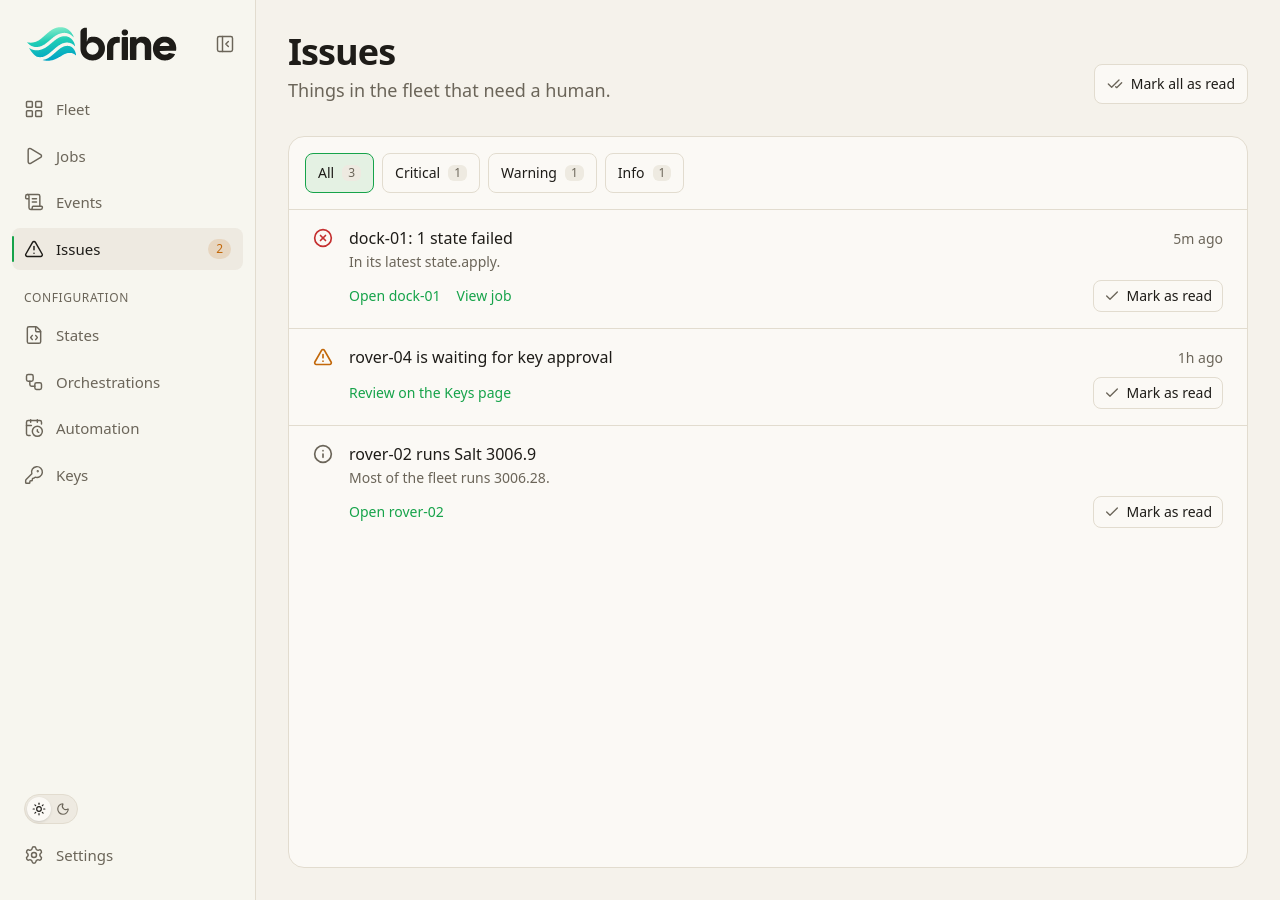
Test: IssuesPage › says so when an issue changed before it was marked, and leaves it unread
Click the button "Mark as read" in the row of "Review on the Keys page": coordinates (1158, 393) [1094,377,1223,409]
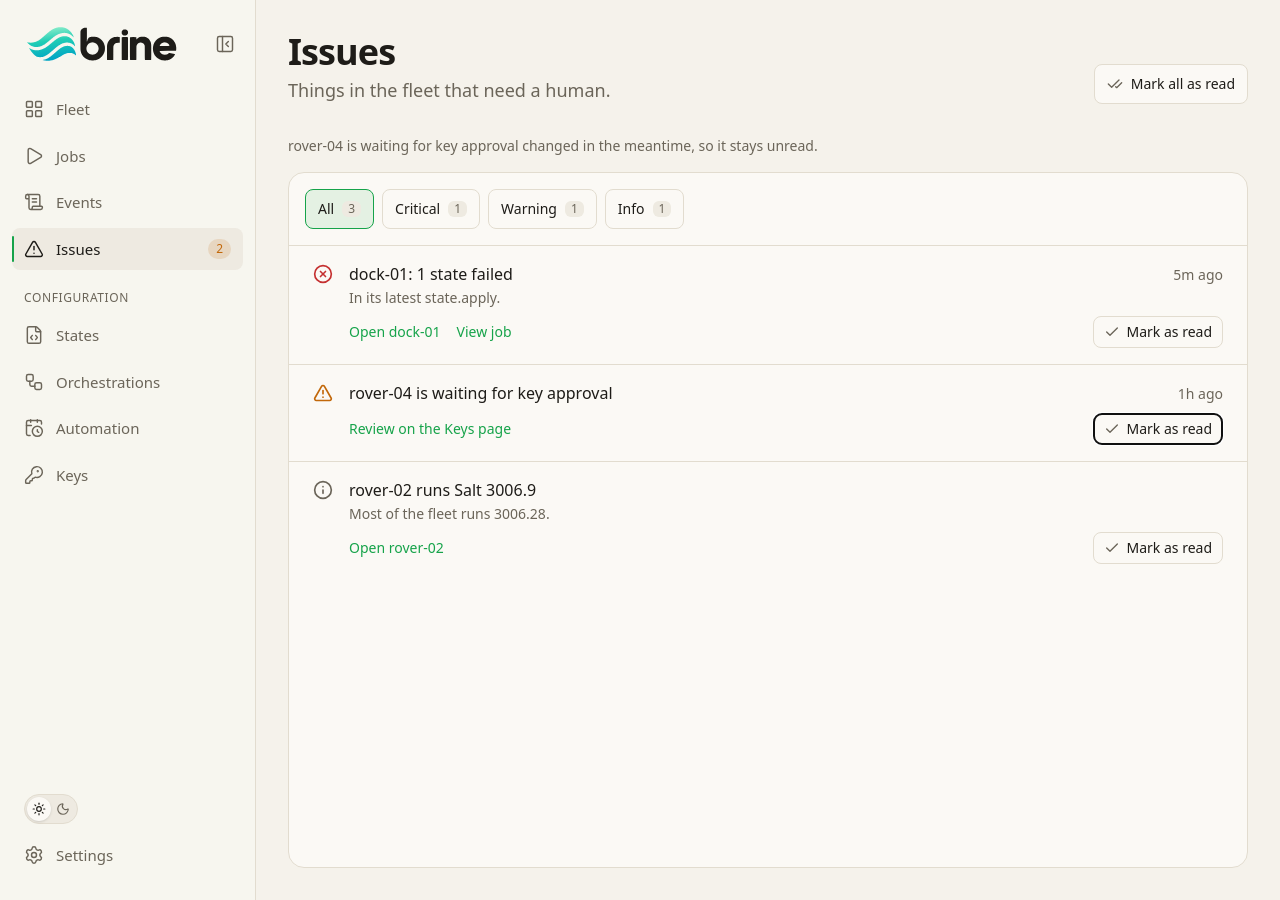
Expected: the number of list items is 3, [289,245,1247,364]; [289,364,1247,461]; [289,461,1247,580]
Expected: the message shows "rover-04 is waiting for key approval changed in the meantime, so it stays unread.", [288,136,818,155]
